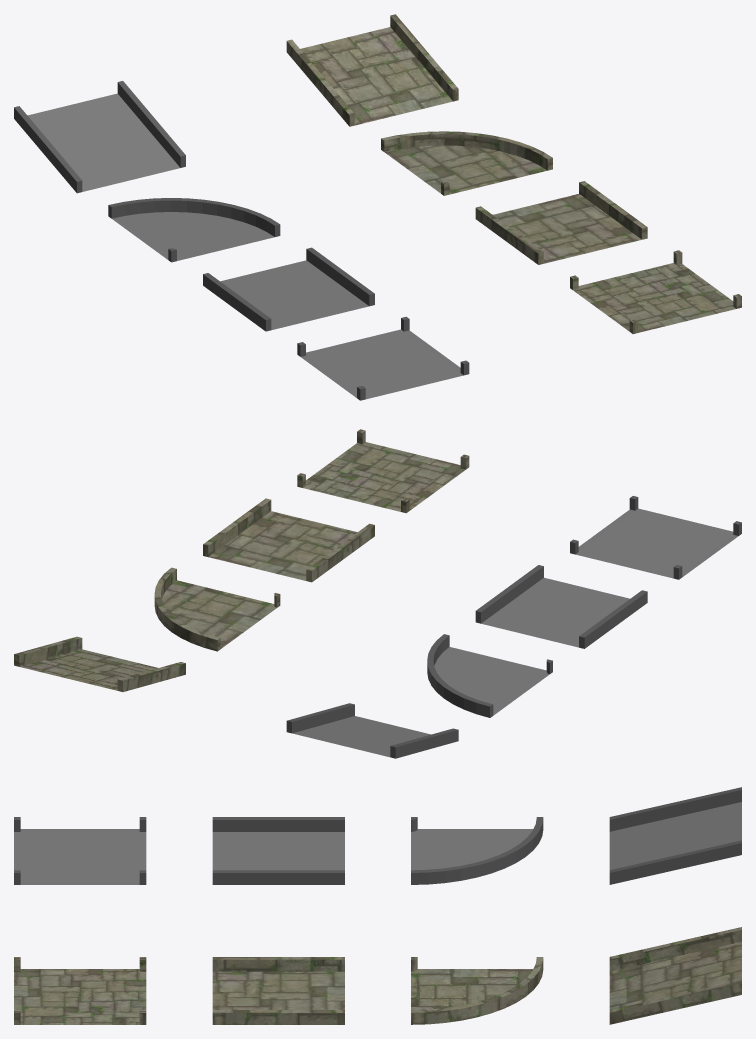
File: routes_basic2.glb
The picture shows the model from 3 angles, top to bottom: view 1: azimuth 30°, elevation 25°; view 2: azimuth 150°, elevation 25°; view 3: azimuth 270°, elevation 25°; orthographic projection. The views are drawn at different scales.
Visible parts, largest first — view 1: pente2-col, pente-col, base2-col, base-col, curva2-col, curva-col, cross2-col, cross-col; view 2: base-col, base2-col, cross-col, cross2-col, curva2-col, curva-col, pente-col, pente2-col; view 3: pente2-col, pente-col, base-col, base2-col, cross-col, cross2-col, curva-col, curva2-col.
Boxes of the visible parts, left/top/right/bottom form: pente2-col: left=286, top=14, right=458, bottom=126; pente-col: left=14, top=81, right=185, bottom=193; base2-col: left=475, top=181, right=647, bottom=264; base-col: left=203, top=247, right=374, bottom=331; curva2-col: left=381, top=131, right=552, bottom=195; curva-col: left=108, top=198, right=280, bottom=262; cross2-col: left=570, top=250, right=741, bottom=333; cross-col: left=297, top=316, right=469, bottom=400; base-col: left=475, top=565, right=647, bottom=648; base2-col: left=203, top=498, right=374, bottom=582; cross-col: left=570, top=496, right=741, bottom=579; cross2-col: left=297, top=429, right=469, bottom=513; curva2-col: left=154, top=567, right=280, bottom=651; curva-col: left=427, top=634, right=552, bottom=717; pente-col: left=286, top=703, right=458, bottom=758; pente2-col: left=14, top=636, right=185, bottom=691; pente2-col: left=609, top=927, right=741, bottom=1024; pente-col: left=609, top=787, right=741, bottom=884; base-col: left=212, top=817, right=344, bottom=884; base2-col: left=212, top=957, right=344, bottom=1024; cross-col: left=14, top=817, right=146, bottom=884; cross2-col: left=14, top=957, right=146, bottom=1024; curva-col: left=411, top=817, right=543, bottom=884; curva2-col: left=411, top=957, right=543, bottom=1024.
Bounding box in the file's own units: 7 × 0.7 × 11.
Materials: 2 (2 with a texture image).
